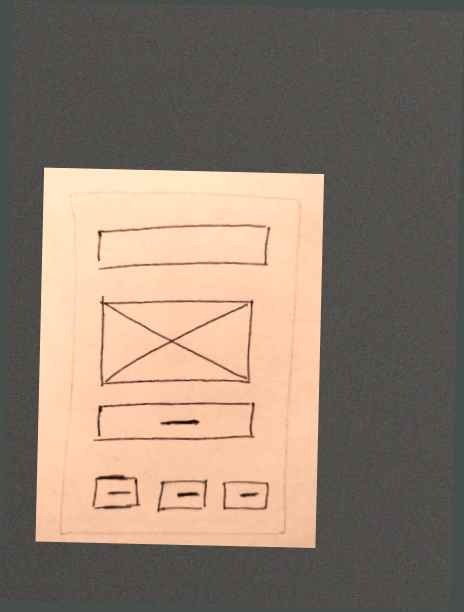button: (88, 395, 262, 447), (86, 470, 145, 514), (151, 476, 212, 517), (219, 474, 276, 516)
image: (91, 291, 269, 395)
text_input: (87, 210, 274, 276)
